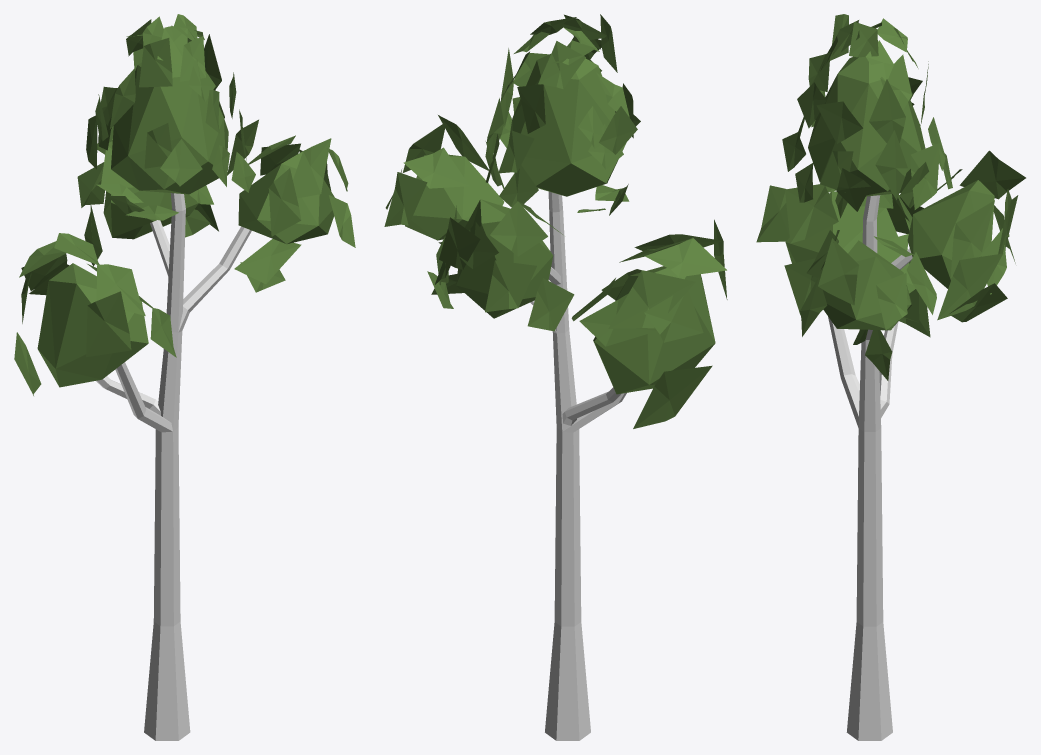
The model's file is SM_Tree_Beech_Sapling_A.fbx.
The picture shows the model from 3 angles, left to right: view 1: azimuth 30°, elevation 25°; view 2: azimuth 150°, elevation 25°; view 3: azimuth 270°, elevation 25°; orthographic projection.
Parts seen in each view (by area): view 1: tree-beech-sapling-a; view 2: tree-beech-sapling-a; view 3: tree-beech-sapling-a.
Boxes of the visible parts, x1,y1,x2,y2 form: tree-beech-sapling-a: (14, 14, 355, 740); tree-beech-sapling-a: (384, 14, 727, 740); tree-beech-sapling-a: (756, 14, 1025, 740).
Size of the model in its own units: 1.12 by 2.32 by 0.8.
